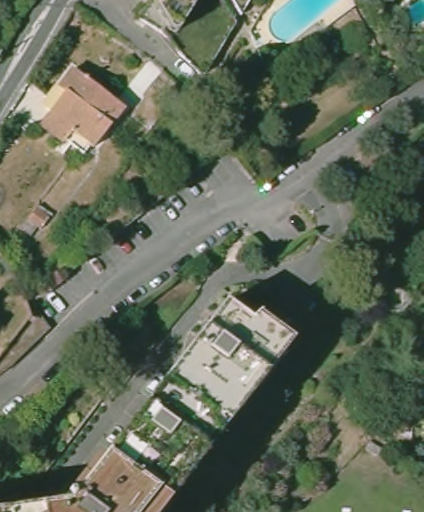pool: (264, 1, 359, 47)
